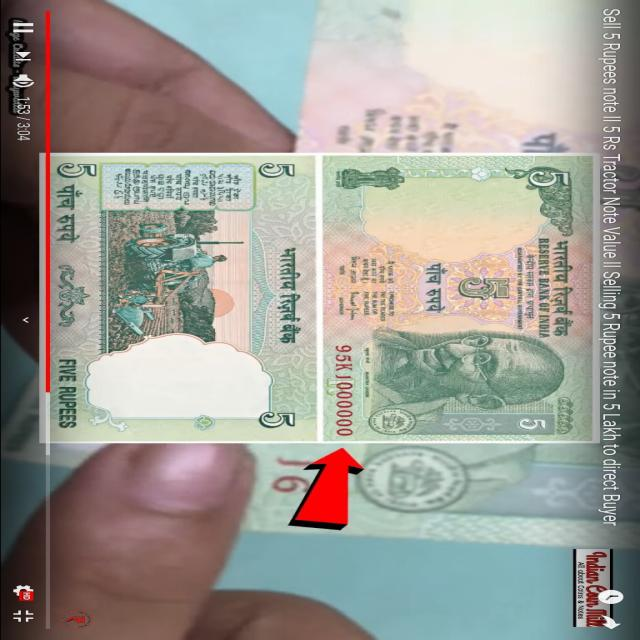5IndianRupees: (323, 155, 593, 440)
